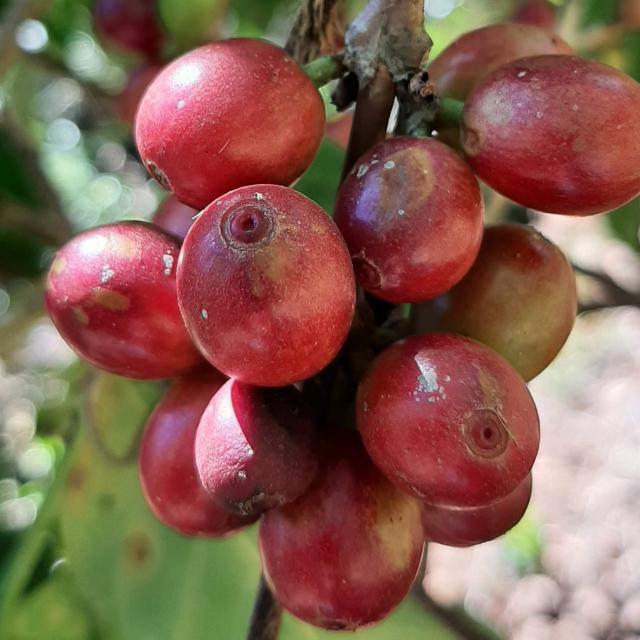red: (176, 184, 356, 387), (259, 430, 424, 632), (134, 37, 326, 209), (357, 334, 540, 509), (461, 54, 640, 215), (44, 221, 202, 380), (334, 136, 484, 303), (138, 365, 259, 539), (195, 379, 318, 516), (424, 474, 533, 548)
yellow: (414, 224, 577, 382), (429, 22, 575, 100)
